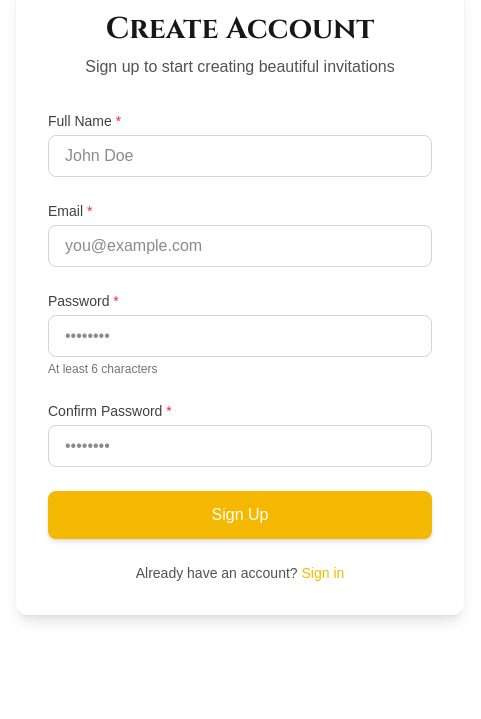
Scenario: SignupForm › validates password length
The width and height of the screenshot is (481, 719).
Check: the button is enabled, box x1=48 y1=491 x2=432 y2=539
Type "Test User" into the field labelled "Full Name *".
click(240, 156); type("Test User")  # box x1=48 y1=135 x2=432 y2=177
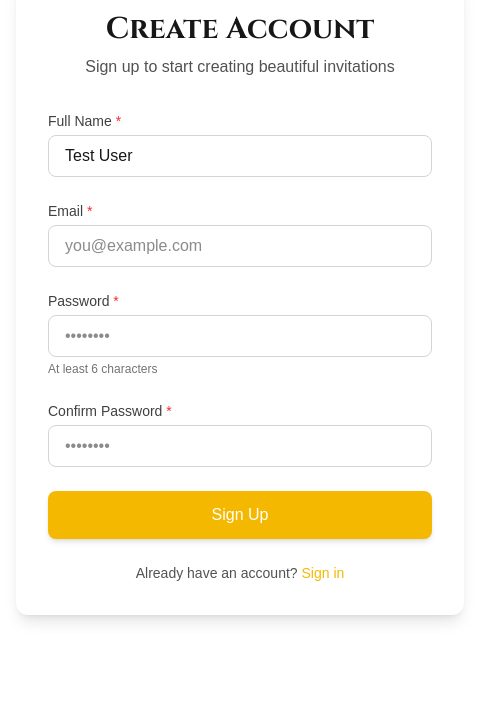
Type "test@example.com" into the field labelled "Email *".
click(240, 246); type("test@example.com")  # box x1=48 y1=225 x2=432 y2=267
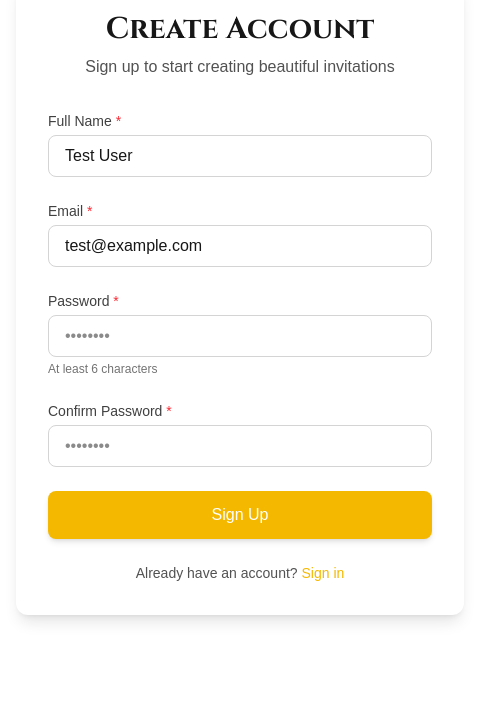
Type "12345" into the password field labelled "Password *".
click(240, 336); type("12345")  # box x1=48 y1=315 x2=432 y2=357
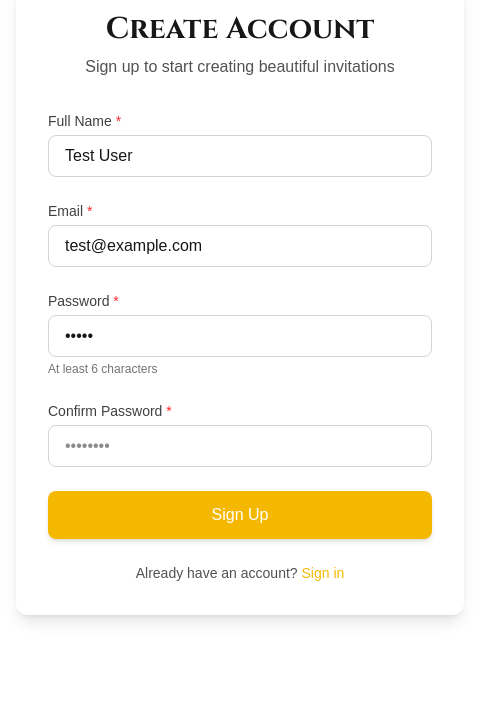
Type "12345" into the password field labelled "Confirm Password *".
click(240, 446); type("12345")  # box x1=48 y1=425 x2=432 y2=467
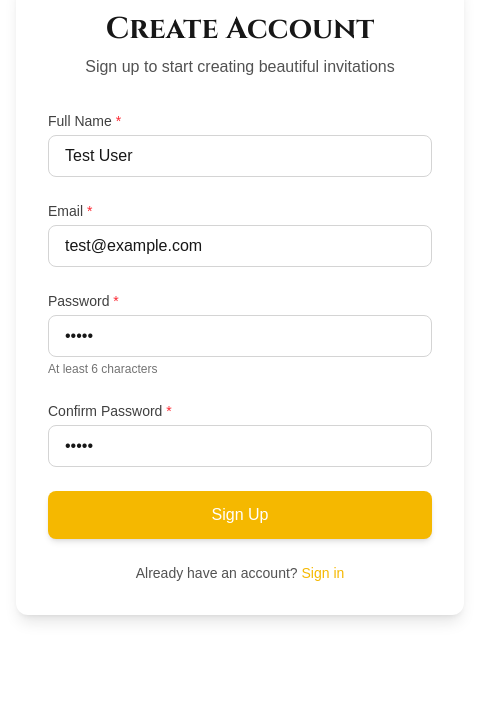
Click the button "Sign Up".
click(240, 515)  # box x1=48 y1=491 x2=432 y2=539
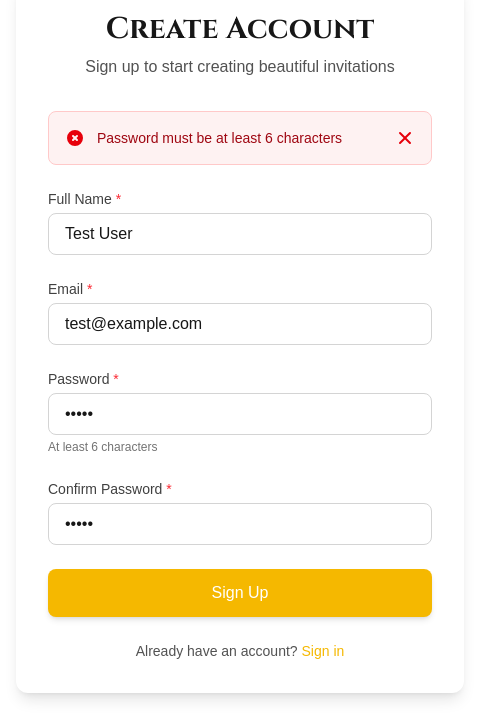
Check: the text "Password must be at least 6 characters" is shown, box x1=97 y1=128 x2=383 y2=148
